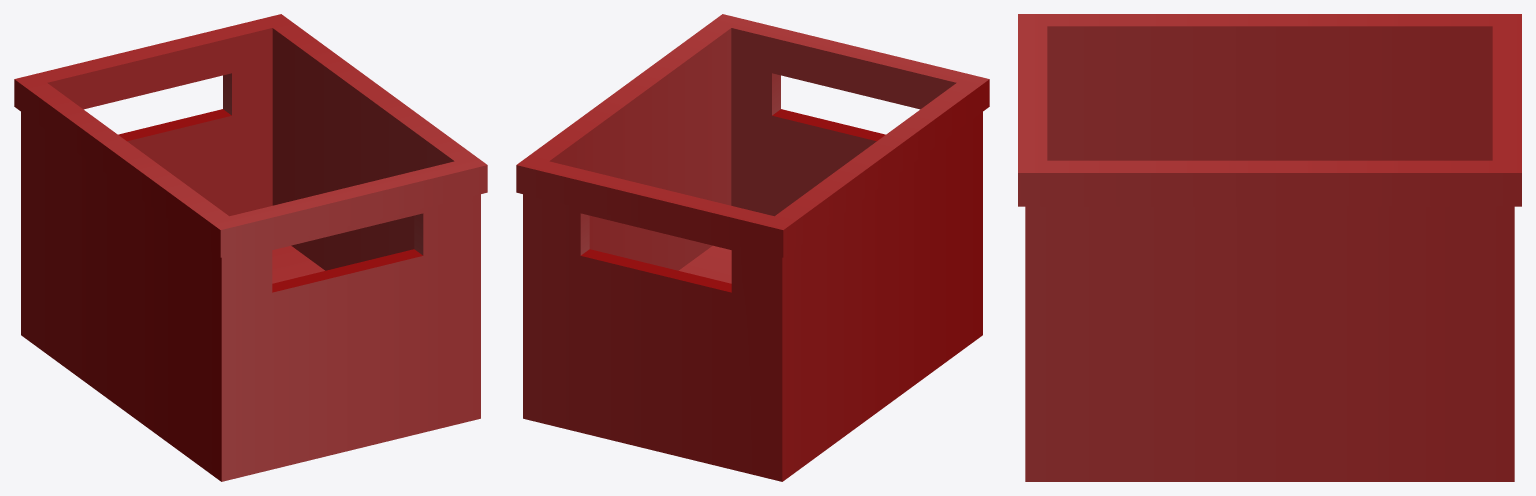
Rendered from B02_boite.fbx.
3 views of the same model, side by side, from view 1: azimuth 30°, elevation 25°; view 2: azimuth 150°, elevation 25°; view 3: azimuth 270°, elevation 25° (orthographic). The views are drawn at different scales.
Visible parts, largest first — view 1: B02_boite; view 2: B02_boite; view 3: B02_boite.
Part boxes in pixels (<box>): B02_boite: <box>14,14,487,481</box>; B02_boite: <box>516,14,989,481</box>; B02_boite: <box>1018,14,1521,481</box>.
Size of the model in its own units: 102 by 93.02 by 137.
